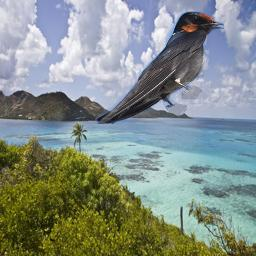Swallow: (95, 11, 224, 124)
